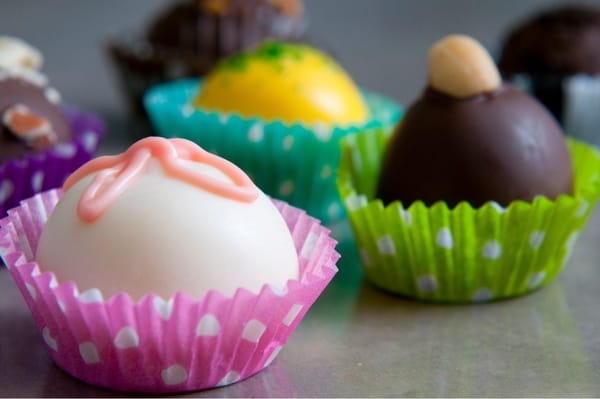sushi: (2, 136, 339, 393), (334, 33, 595, 305), (141, 38, 395, 231)
